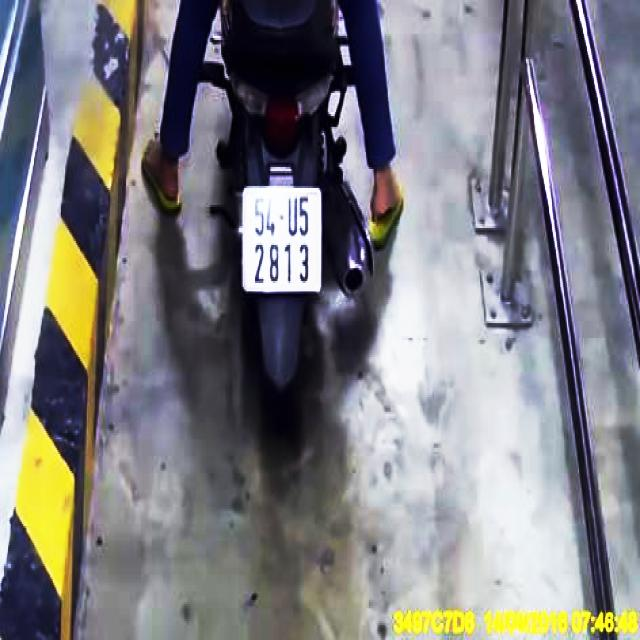license_plate: (246, 190, 321, 293)
